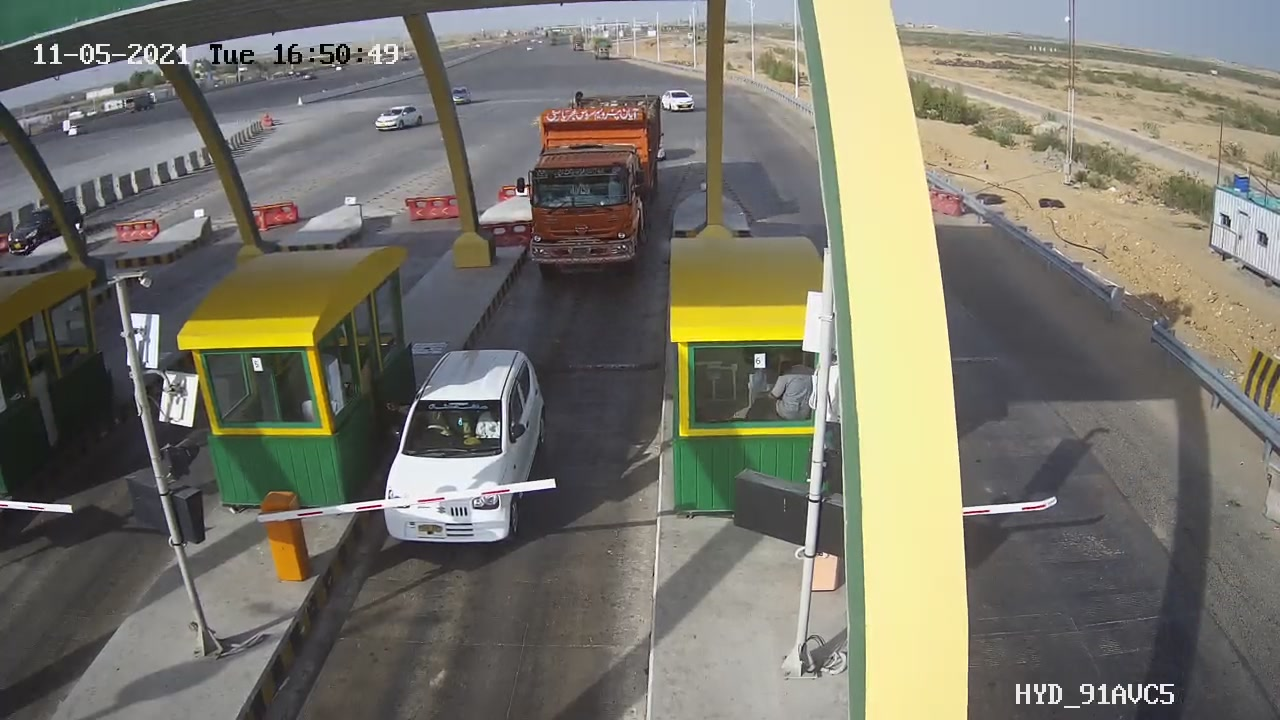F1: (361, 328, 566, 565)
